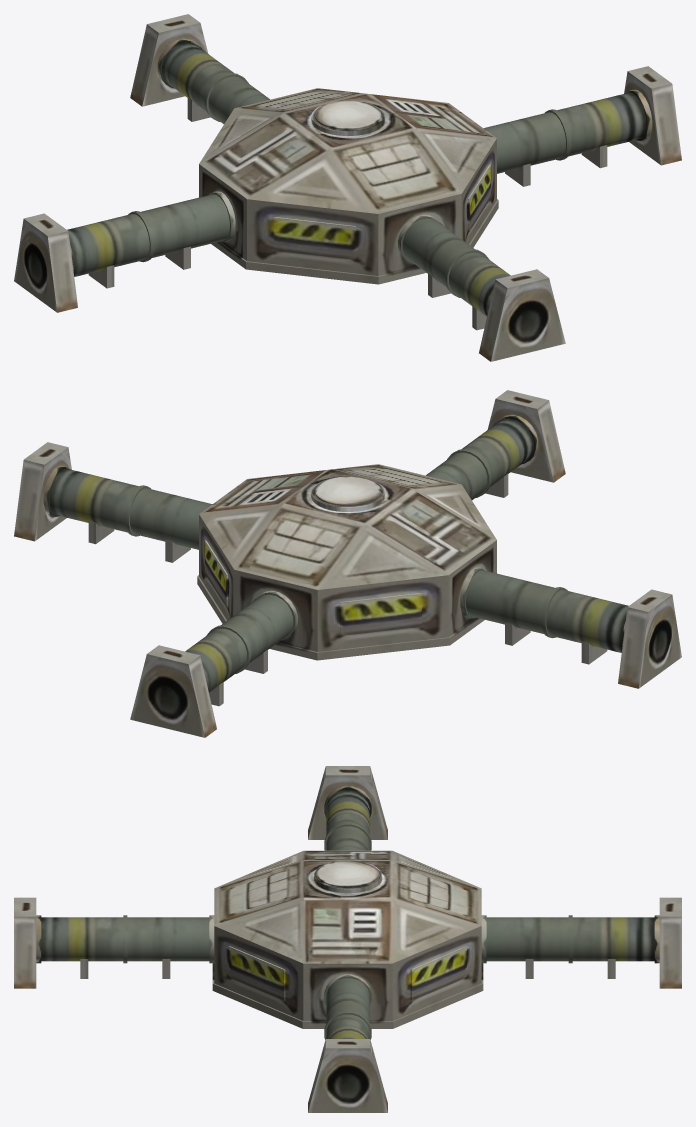
Rendered from fourwaypipe_cad.glb.
The picture shows the model from 3 angles, top to bottom: view 1: azimuth 30°, elevation 25°; view 2: azimuth 150°, elevation 25°; view 3: azimuth 270°, elevation 25°; orthographic projection. The views are drawn at different scales.
Parts seen in each view (by area): view 1: Mesh01; view 2: Mesh01; view 3: Mesh01.
Part boxes in pixels (<box>): Mesh01: <box>14,14,681,361</box>; Mesh01: <box>14,390,681,737</box>; Mesh01: <box>14,766,681,1112</box>.
Size of the model in its own units: 25.56 by 4.15 by 25.56.
1 material, 1 textured.
